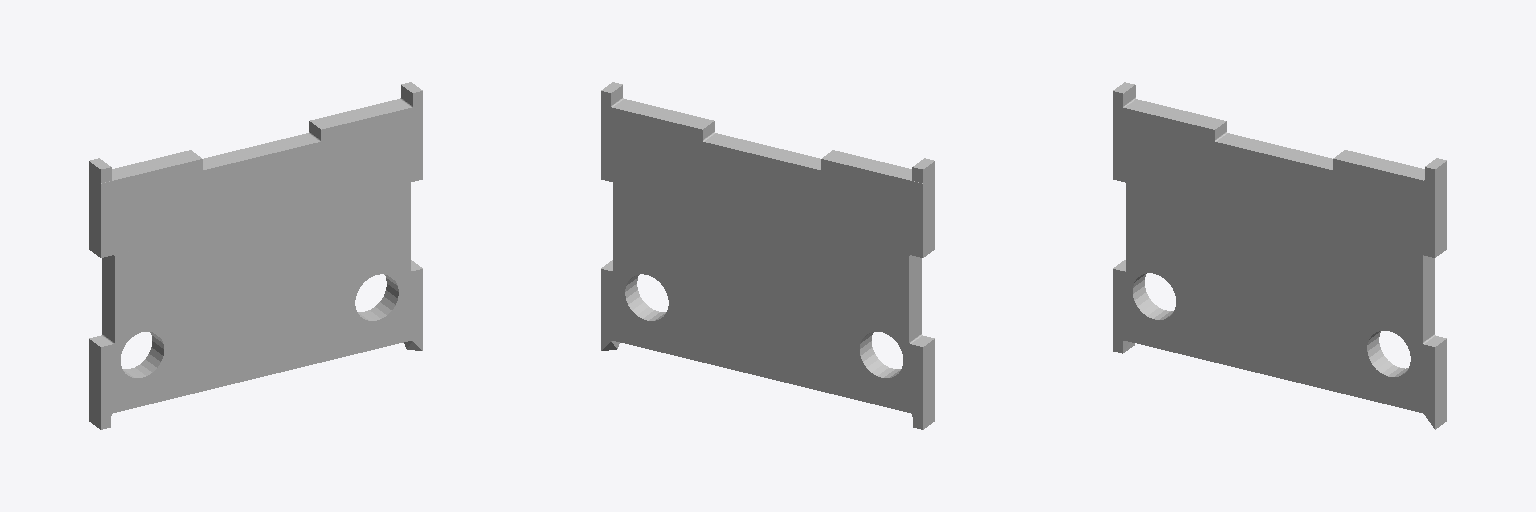
The model's file is OBJ_Bottom.obj.
3 renders of one model, left to right at view 1: azimuth 30°, elevation 25°; view 2: azimuth 150°, elevation 25°; view 3: azimuth 330°, elevation 25°, orthographic.
Bounding box in the file's own units: 154 × 119 × 10.